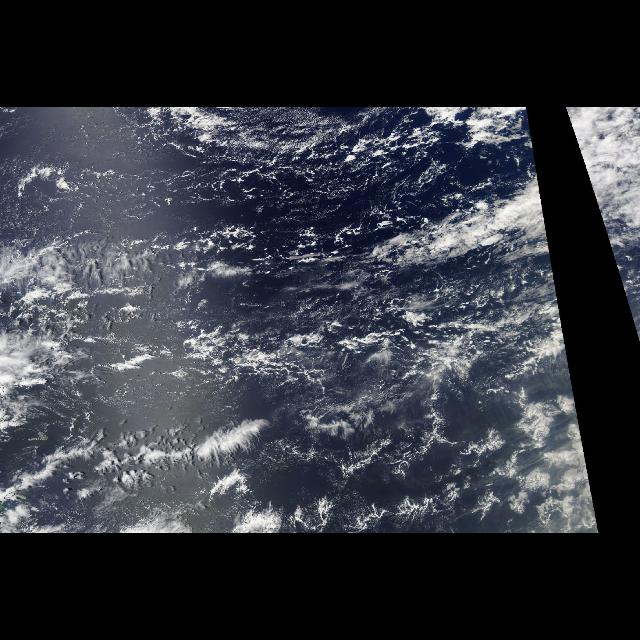Gravel: (68, 150, 454, 268)
Sugar: (229, 289, 515, 525), (4, 109, 462, 238)
